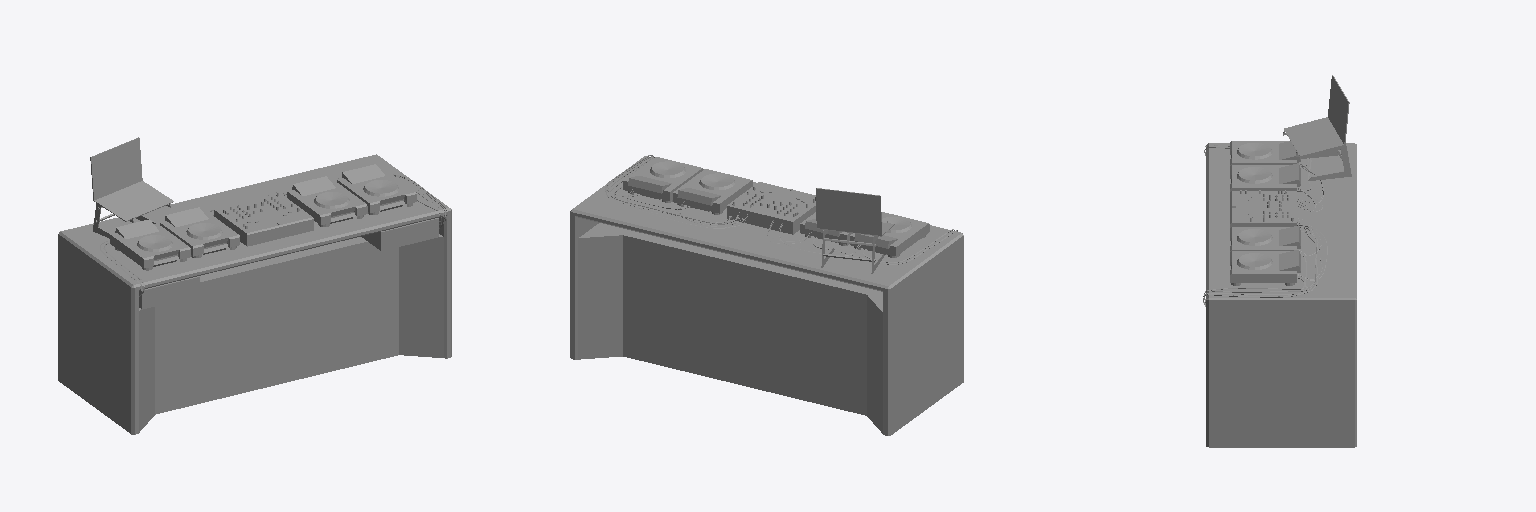
File: DJTable.obj
The picture shows the model from 3 angles: view 1: azimuth 30°, elevation 25°; view 2: azimuth 150°, elevation 25°; view 3: azimuth 270°, elevation 25°; orthographic projection.
Visible parts, largest first — view 1: DJ_Table_Combined_Mesh_(root:_scene).006; view 2: DJ_Table_Combined_Mesh_(root:_scene).006; view 3: DJ_Table_Combined_Mesh_(root:_scene).006.
Boxes of the visible parts, <box> form: DJ_Table_Combined_Mesh_(root:_scene).006: <box>58,137,451,434</box>; DJ_Table_Combined_Mesh_(root:_scene).006: <box>570,155,963,435</box>; DJ_Table_Combined_Mesh_(root:_scene).006: <box>1203,75,1356,447</box>.
Bounding box in the file's own units: 2.07 × 1.4 × 0.8645.